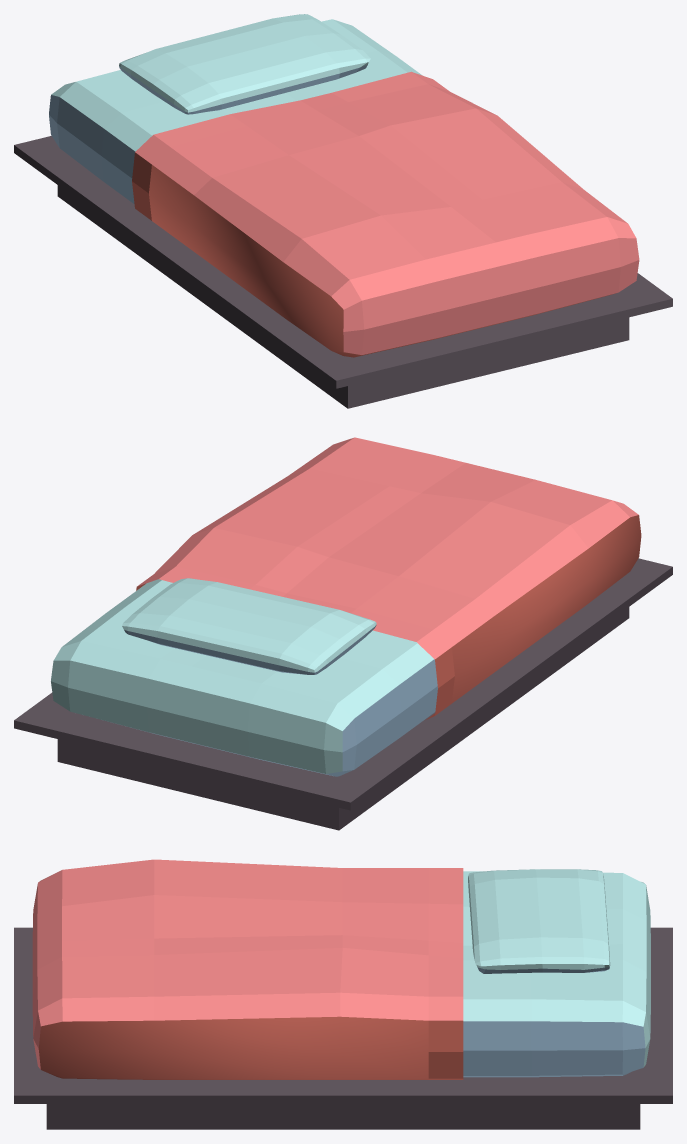
The model's file is Bed Simple.fbx.
The picture shows the model from 3 angles, top to bottom: view 1: azimuth 30°, elevation 25°; view 2: azimuth 150°, elevation 25°; view 3: azimuth 270°, elevation 25°; orthographic projection. The views are drawn at different scales.
Visible parts, largest first — view 1: Bed Simple; view 2: Bed Simple; view 3: Bed Simple.
Part boxes in pixels (x1,y1,x2,y2): Bed Simple: (14, 14, 672, 408); Bed Simple: (14, 437, 672, 830); Bed Simple: (14, 859, 672, 1129).
Bounding box in the file's own units: 296 × 124 × 490.
